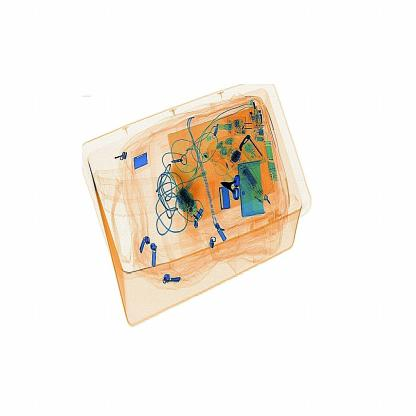gun: (219, 168, 246, 204)
